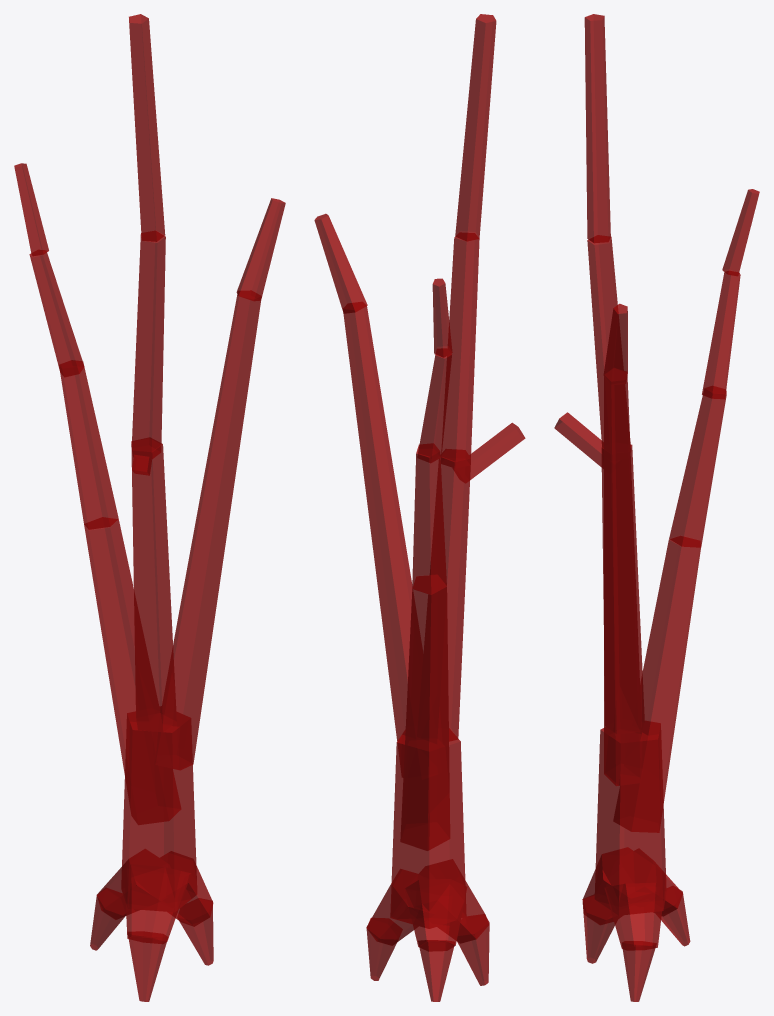
File: SM_Env_Tree_Birch_02_Collision.fbx
3 renders of one model, left to right at view 1: azimuth 30°, elevation 25°; view 2: azimuth 150°, elevation 25°; view 3: azimuth 270°, elevation 25°, orthographic. The views are drawn at different scales.
Parts seen in each view (by area): view 1: SM_Env_Tree_Birch_02_Collision; view 2: SM_Env_Tree_Birch_02_Collision; view 3: SM_Env_Tree_Birch_02_Collision.
Part boxes in pixels (left/top/right/bottom): SM_Env_Tree_Birch_02_Collision: left=14, top=14, right=285, bottom=1001; SM_Env_Tree_Birch_02_Collision: left=314, top=14, right=525, bottom=1001; SM_Env_Tree_Birch_02_Collision: left=554, top=14, right=759, bottom=1001.
Size of the model in its own units: 134 by 630 by 124.
